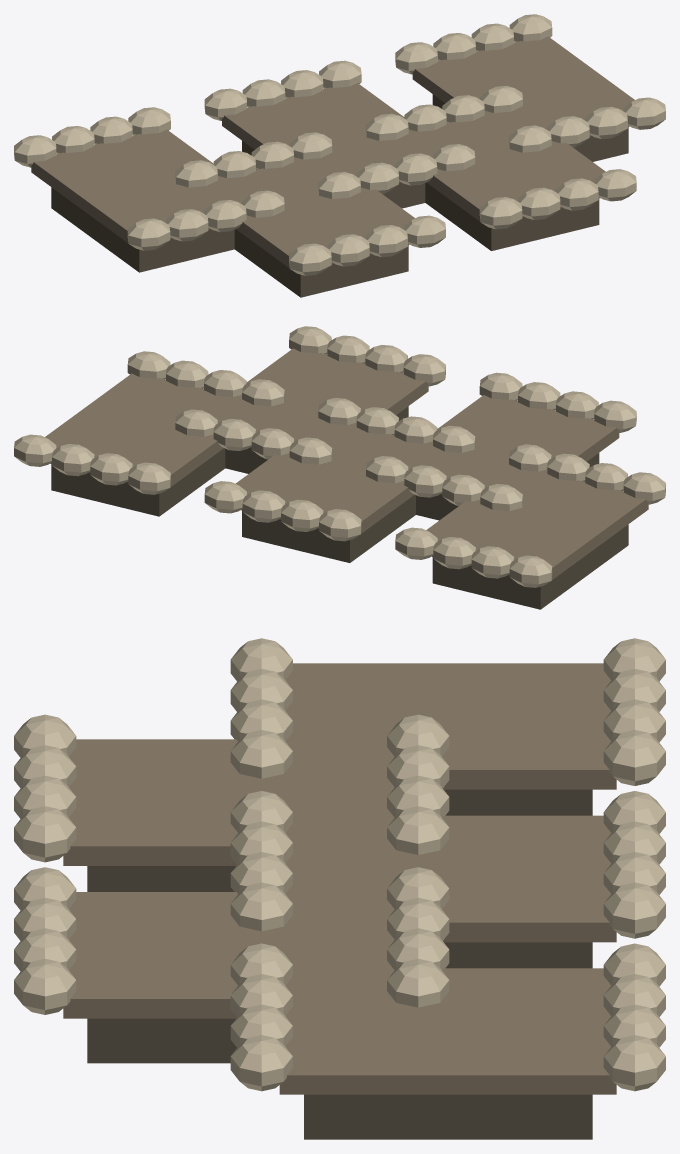
The model's file is setpiece-trench.glb.
The picture shows the model from 3 angles, top to bottom: view 1: azimuth 30°, elevation 25°; view 2: azimuth 150°, elevation 25°; view 3: azimuth 270°, elevation 25°; orthographic projection. The views are drawn at different scales.
Parts seen in each view (by area): view 1: setpiece-trench; view 2: setpiece-trench; view 3: setpiece-trench.
Boxes of the visible parts, bbox=[...] form: setpiece-trench: bbox=[14, 14, 665, 297]; setpiece-trench: bbox=[14, 326, 665, 609]; setpiece-trench: bbox=[14, 638, 665, 1139].
Size of the model in its own units: 8.45 by 0.934 by 5.42.
